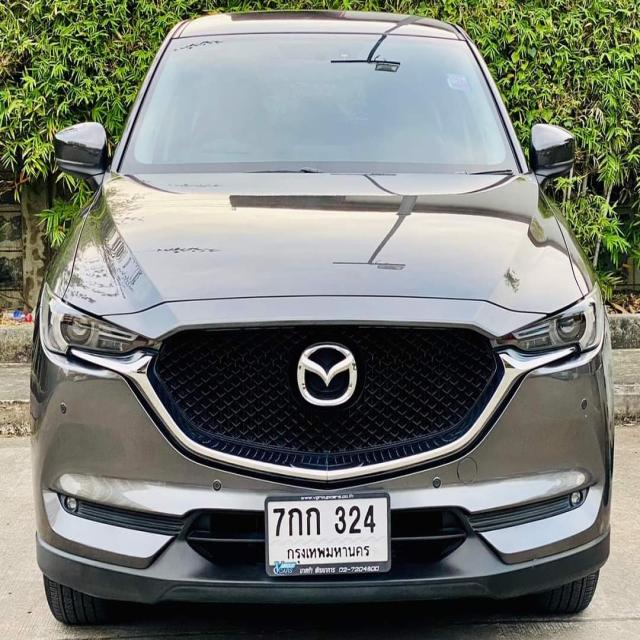license_plate: (266, 494, 392, 574)
